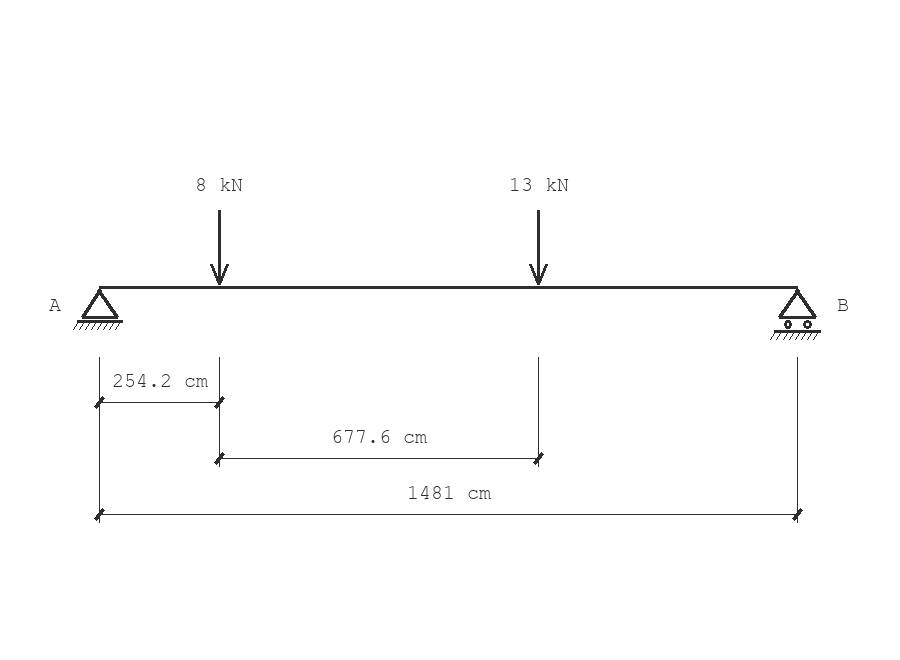pin_support: (73, 289, 123, 330)
point_load: (210, 210, 229, 285), (529, 210, 548, 285)
roller_support: (770, 289, 821, 340)
